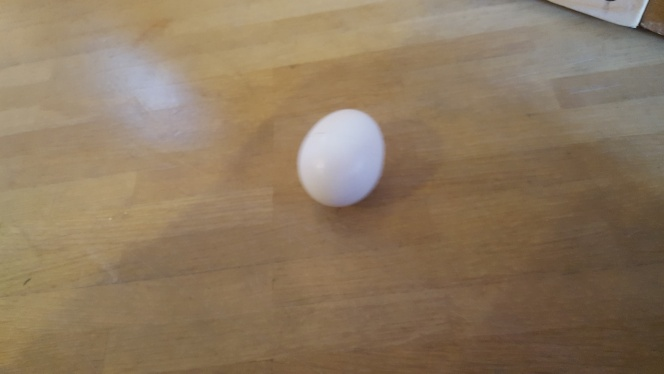egg: (296, 104, 388, 213)
